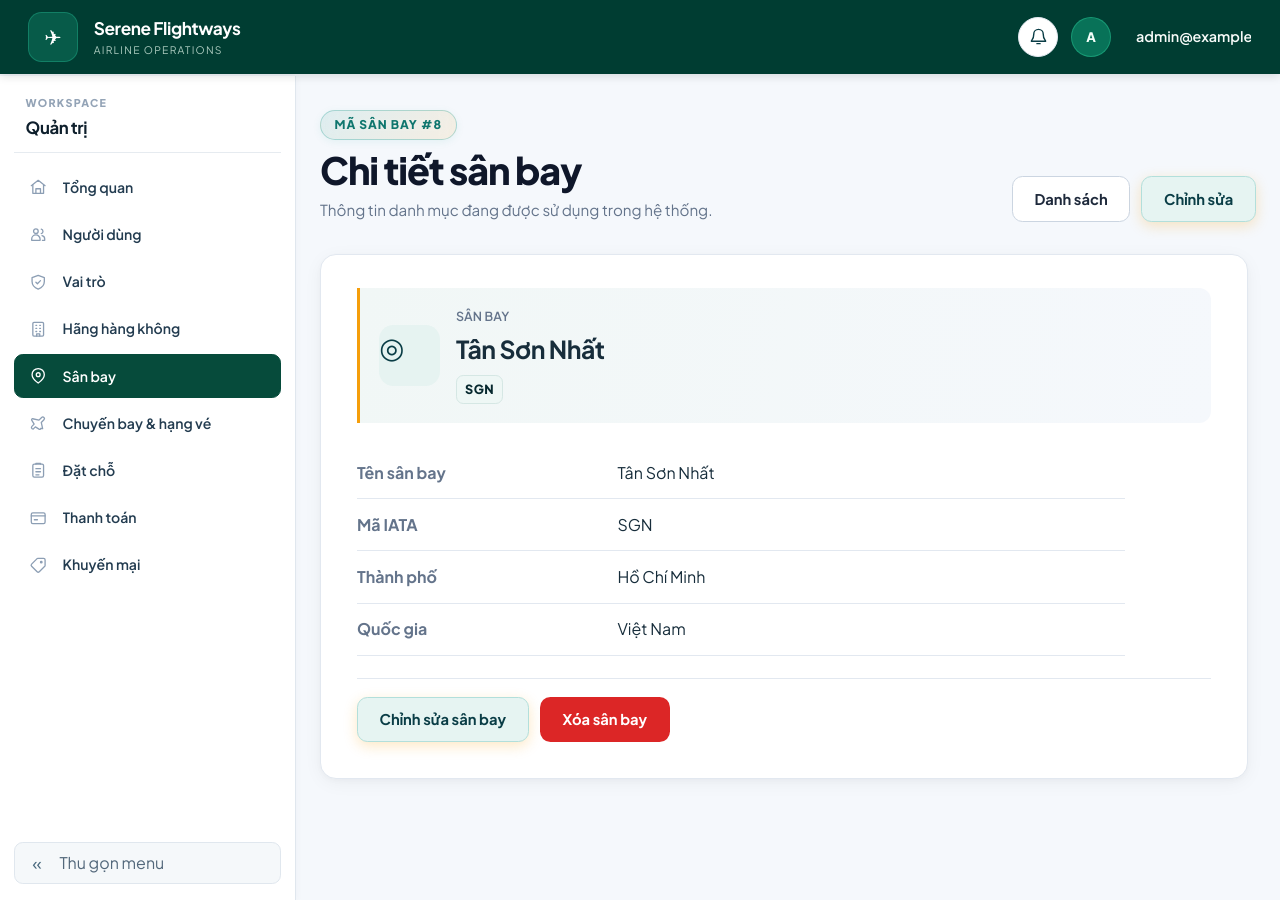
Scenario: Airline and Airport administration › shows Airport foreign-key delete failure as HTTP 400 without deleting or hiding the detail
Expected: the heading "Chi tiết sân bay" is shown, [320,146,582,193]
Click the button "Xóa sân bay": (605,720) [540,697,670,742]
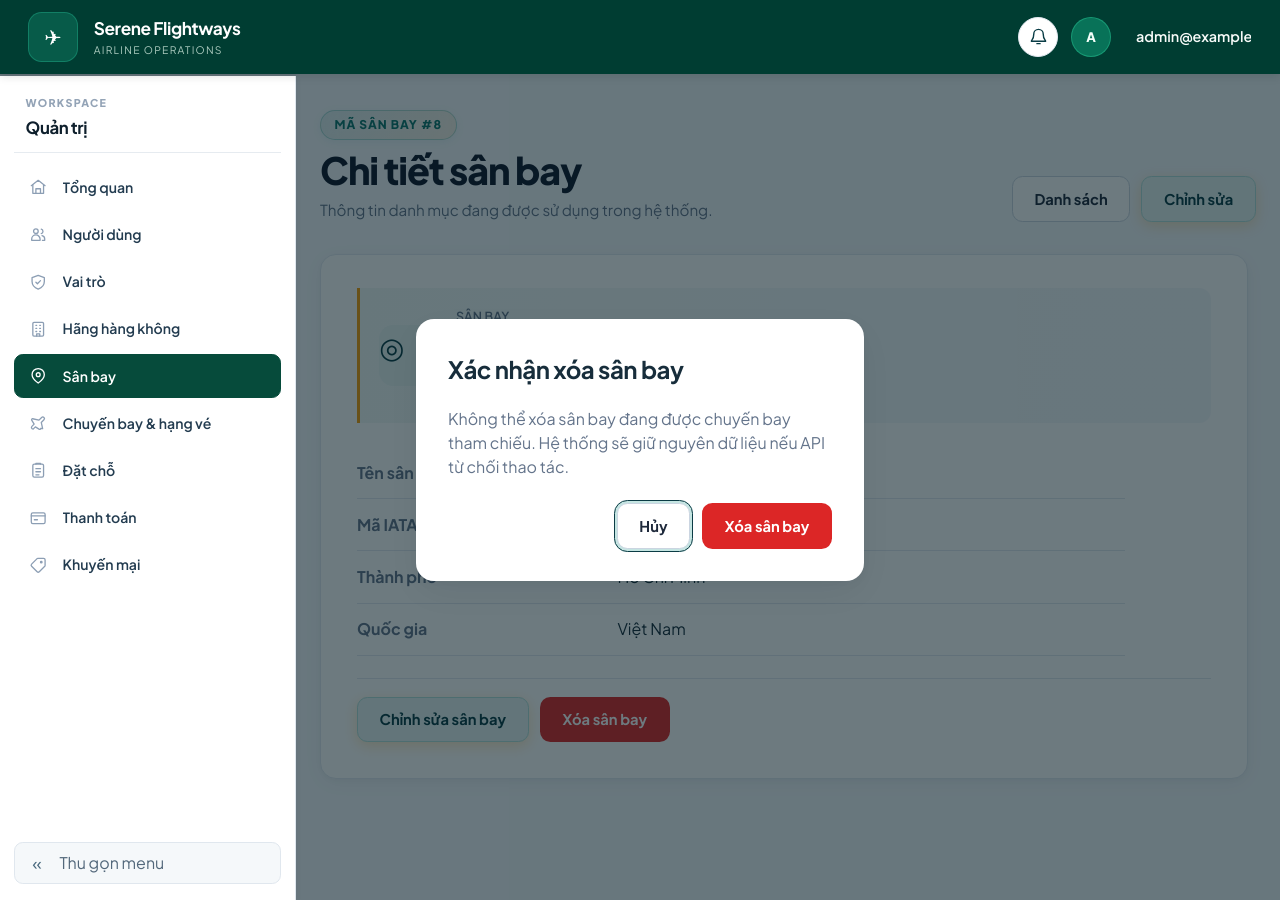
Click the button "Xóa sân bay": (767,526) [702,503,832,549]
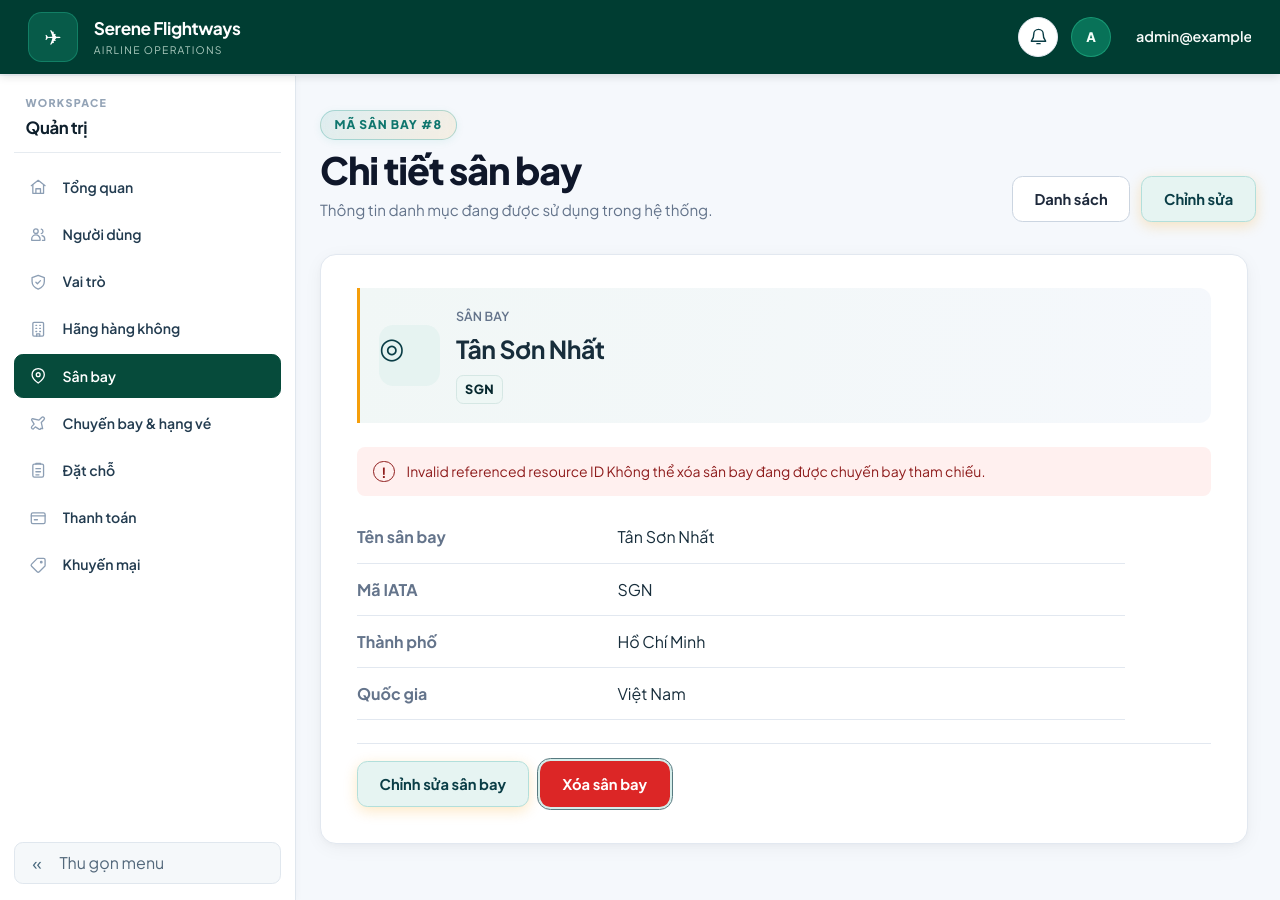
Expected: the heading "Chi tiết sân bay" is shown, [320,146,582,193]
Expected: the message shows "Invalid referenced resource ID", [407,462,985,480]
